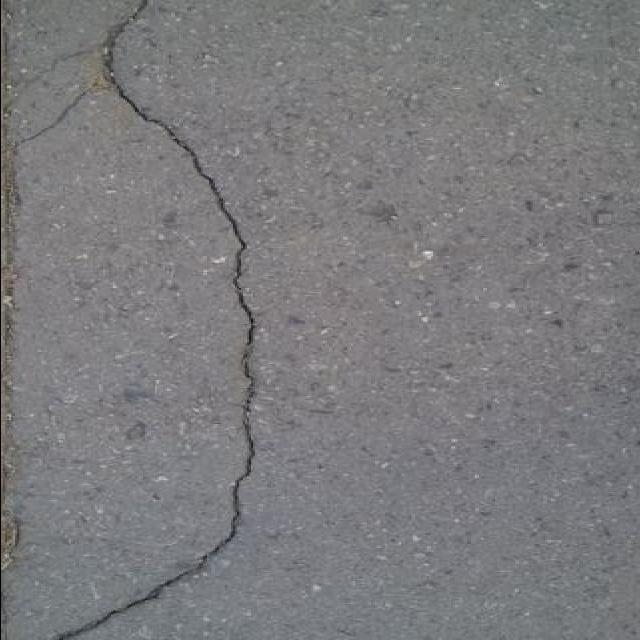Crack: (1, 0, 260, 639)
